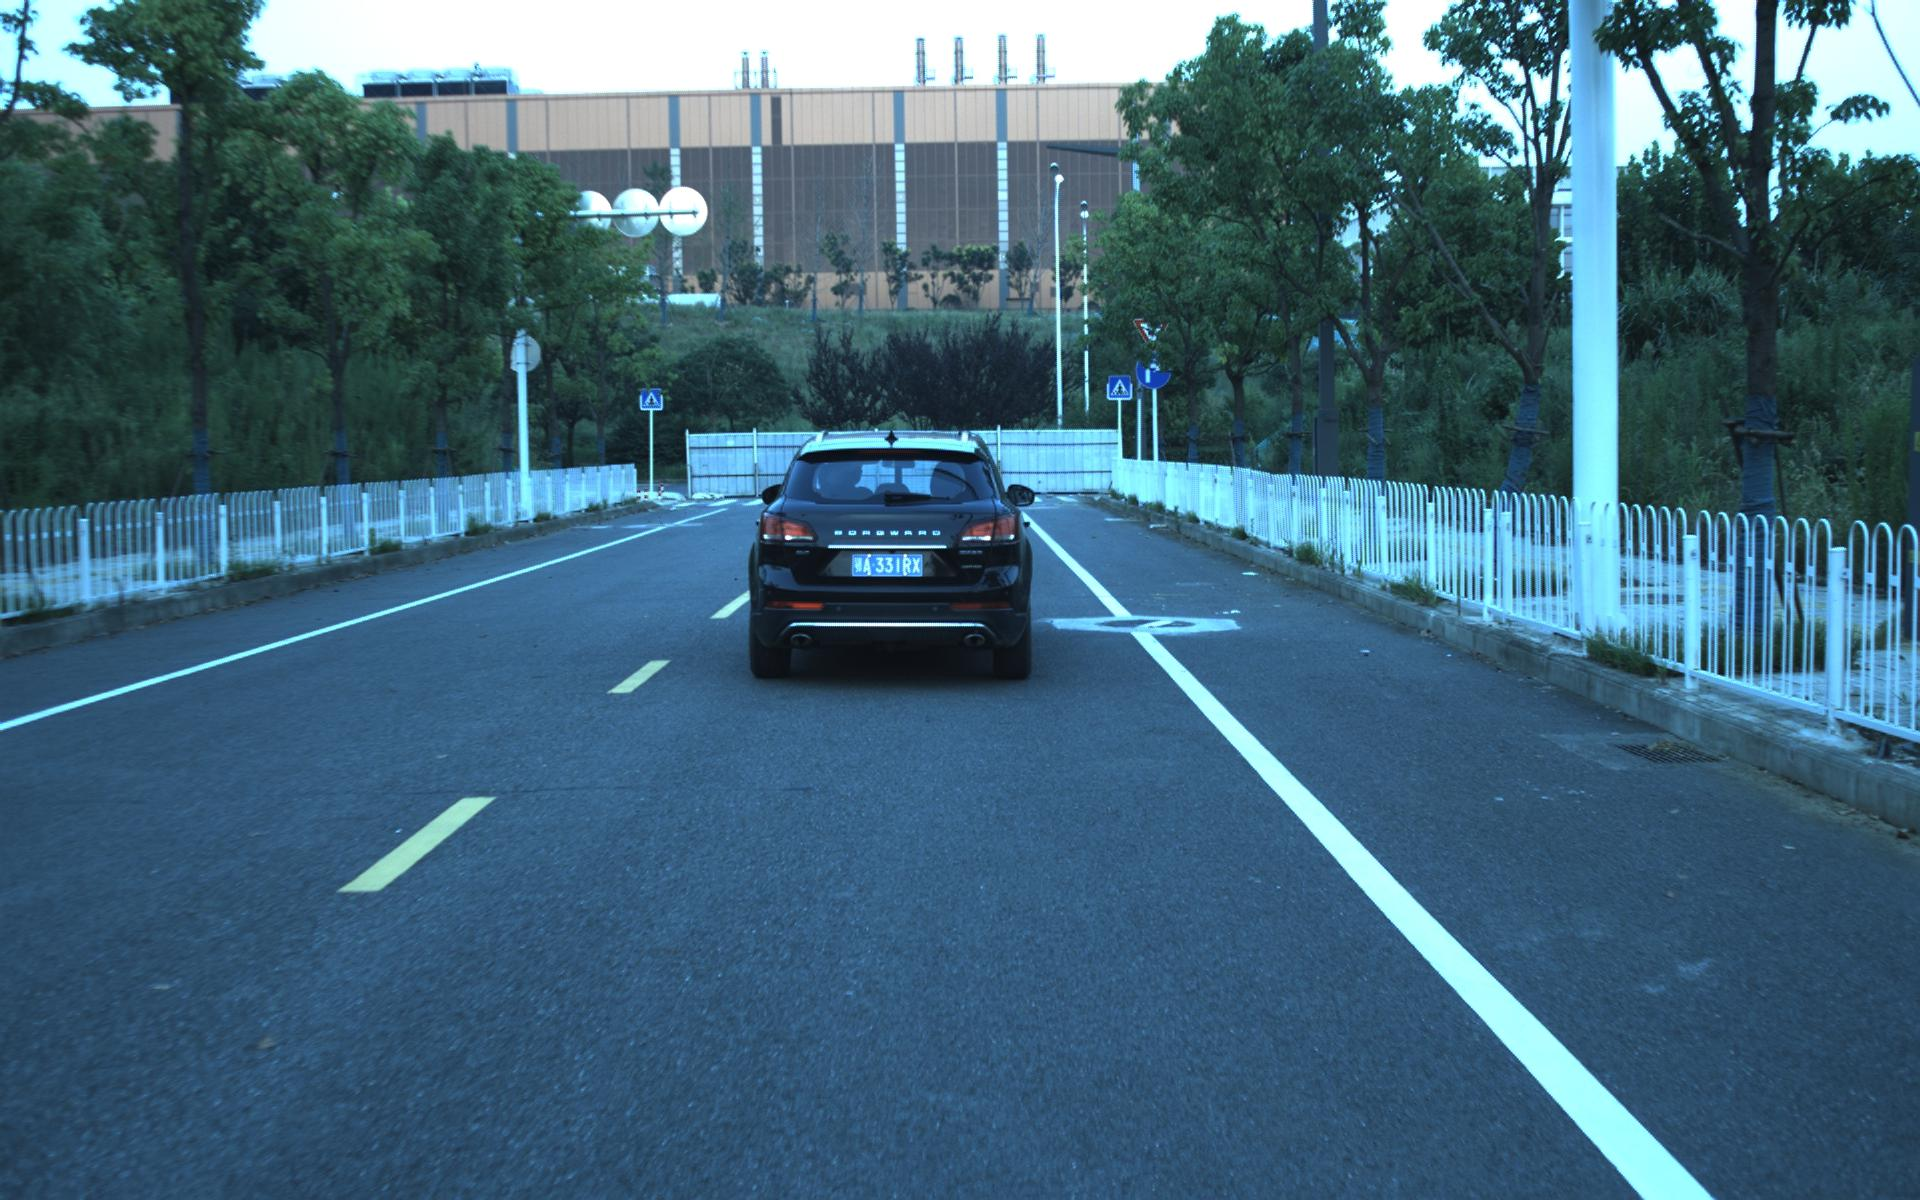Car: (745, 422, 1035, 682)
